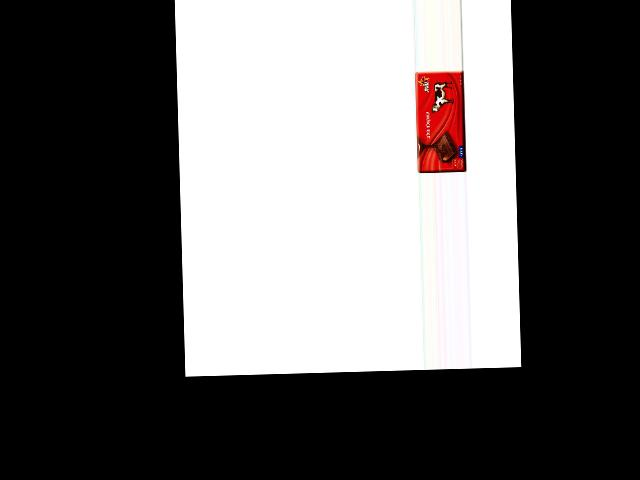chocolate: (414, 69, 466, 173)
